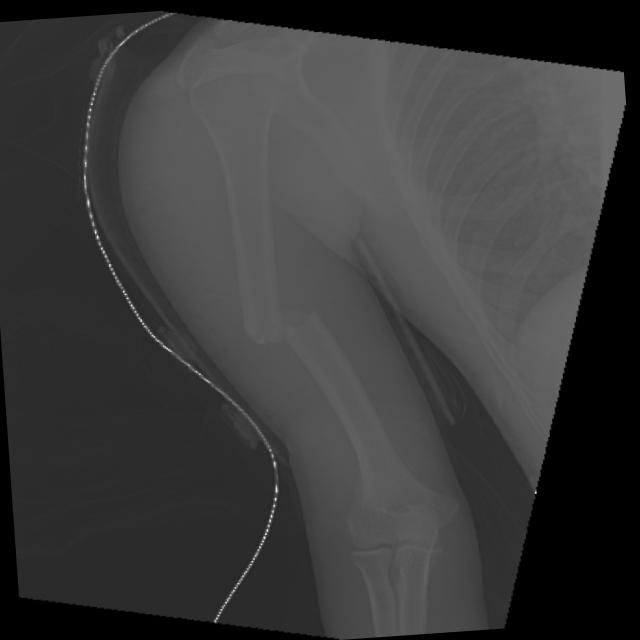humerus fracture: (202, 212, 406, 443)
